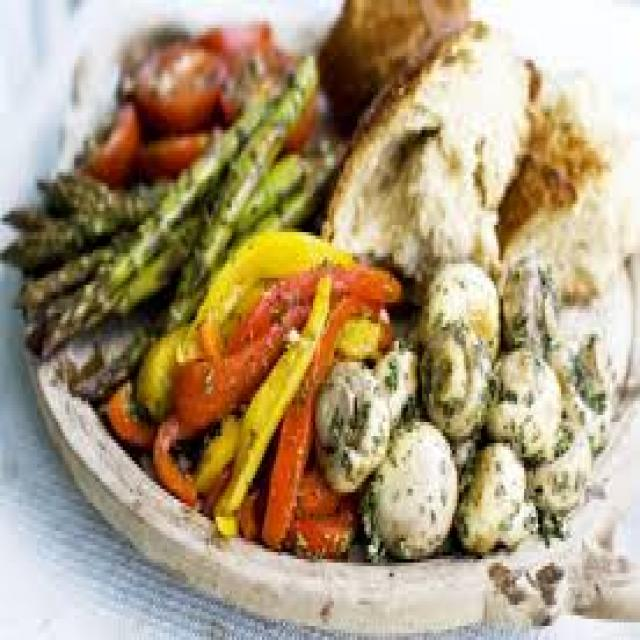organic waste: (67, 49, 313, 404), (23, 105, 264, 358), (14, 81, 267, 306), (320, 18, 540, 270), (496, 67, 638, 281), (269, 288, 369, 548), (190, 225, 357, 355), (313, 0, 466, 134), (213, 324, 306, 538), (0, 165, 174, 268), (357, 412, 459, 556), (232, 256, 401, 324), (313, 352, 387, 492), (220, 42, 313, 148), (454, 436, 536, 549), (547, 327, 617, 450), (485, 345, 561, 457), (420, 317, 489, 436), (130, 38, 222, 126), (524, 408, 596, 517), (415, 264, 501, 355), (276, 137, 345, 229), (496, 246, 554, 352), (230, 148, 304, 228), (132, 316, 190, 415), (118, 21, 190, 88), (197, 468, 262, 542), (72, 102, 139, 172), (371, 334, 420, 426), (151, 412, 195, 499), (130, 130, 209, 176), (192, 412, 239, 486), (104, 376, 153, 443), (292, 503, 355, 552), (197, 18, 276, 52), (294, 464, 341, 517), (552, 246, 596, 299), (364, 295, 392, 334)
